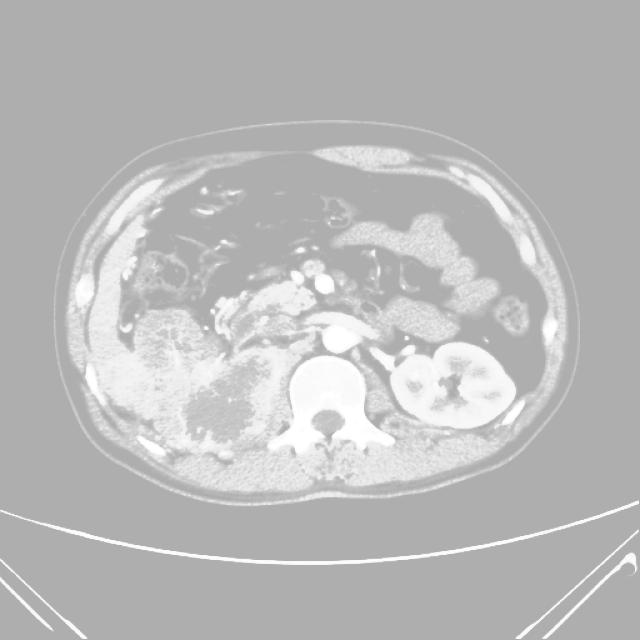TUMOR: (98, 184, 507, 440)
